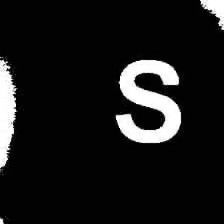LTR_S: (112, 50, 186, 148)
